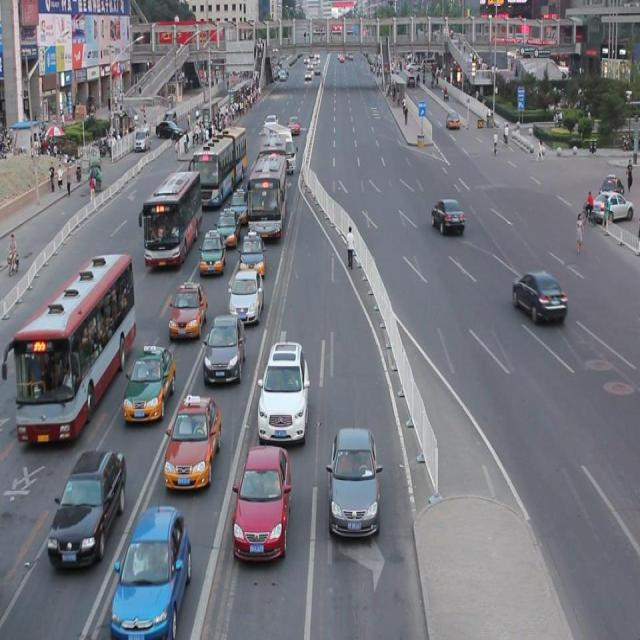bus: (262, 122, 296, 173)
car: (111, 506, 191, 640), (48, 448, 126, 564), (232, 444, 288, 557), (326, 427, 382, 535), (164, 392, 220, 486), (257, 342, 309, 440), (123, 345, 175, 418), (202, 315, 246, 383), (511, 268, 565, 322), (168, 282, 205, 338), (229, 268, 263, 320), (238, 230, 266, 276), (590, 190, 632, 220), (198, 229, 225, 272), (430, 198, 463, 232), (214, 207, 239, 247), (228, 187, 249, 223)
van: (1, 252, 134, 438), (139, 170, 202, 266), (189, 129, 246, 205), (246, 152, 286, 240), (257, 136, 288, 186)
